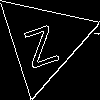Z: (18, 16, 61, 68)
